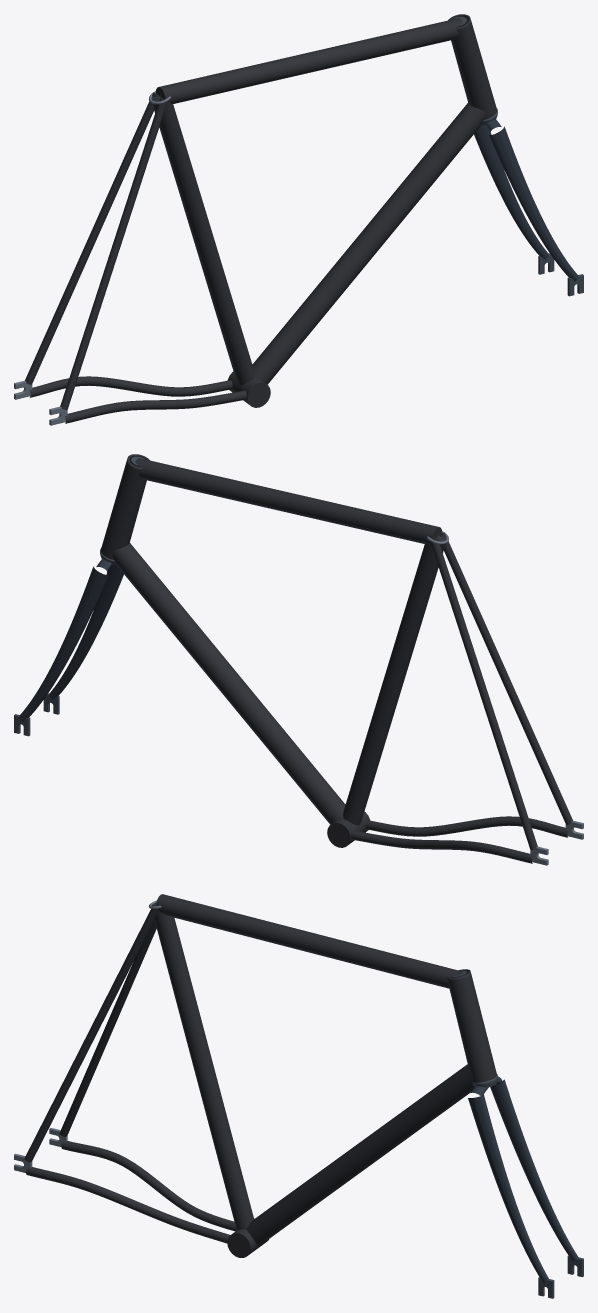
File: state-black-label-v3-61.glb
3 views of the same model, one above another, from view 1: azimuth 30°, elevation 25°; view 2: azimuth 150°, elevation 25°; view 3: azimuth 330°, elevation 25° (orthographic).
Parts seen in each view (by area): view 1: paint_down, paint_top, paint_seat, paint_seatstay_1, paint_seatstay_-1, paint_head, fork_blade_1, paint_chainstay_-1, fork_blade_-1, paint_chainstay_1, paint_bottom_bracket; view 2: paint_down, paint_top, paint_seat, paint_seatstay_-1, paint_seatstay_1, paint_head, fork_blade_-1, paint_chainstay_1, fork_blade_1, paint_chainstay_-1, paint_bottom_bracket; view 3: paint_down, paint_seat, paint_top, paint_head, paint_seatstay_1, fork_blade_1, fork_blade_-1, paint_chainstay_1, paint_seatstay_-1, paint_chainstay_-1, paint_bottom_bracket.
Boxes of the visible parts, <box> form: paint_down: <box>252,103,485,384</box>; paint_top: <box>155,18,462,103</box>; paint_seat: <box>151,95,254,385</box>; paint_seatstay_1: <box>60,98,167,409</box>; paint_seatstay_-1: <box>25,92,157,384</box>; paint_head: <box>448,14,496,119</box>; fork_blade_1: <box>489,126,578,281</box>; paint_chainstay_-1: <box>29,376,232,397</box>; fork_blade_-1: <box>474,125,548,259</box>; paint_chainstay_1: <box>65,390,246,423</box>; paint_bottom_bracket: <box>227,371,270,407</box>; paint_down: <box>112,543,345,824</box>; paint_top: <box>135,458,442,543</box>; paint_seat: <box>343,535,446,825</box>; paint_seatstay_-1: <box>430,538,537,849</box>; paint_seatstay_1: <box>440,532,572,824</box>; paint_head: <box>101,454,149,559</box>; fork_blade_-1: <box>19,566,108,721</box>; paint_chainstay_1: <box>365,816,568,837</box>; fork_blade_1: <box>49,565,123,699</box>; paint_chainstay_-1: <box>351,830,532,863</box>; paint_bottom_bracket: <box>327,811,370,847</box>; paint_down: <box>246,1064,474,1245</box>; paint_seat: <box>152,903,253,1230</box>; paint_top: <box>155,894,462,988</box>; paint_head: <box>447,969,496,1082</box>; paint_seatstay_1: <box>24,904,157,1162</box>; fork_blade_1: <box>468,1094,548,1282</box>; fork_blade_-1: <box>490,1079,578,1261</box>; paint_chainstay_1: <box>26,1167,230,1243</box>; paint_seatstay_-1: <box>59,920,156,1136</box>; paint_chainstay_-1: <box>61,1141,236,1231</box>; paint_bottom_bracket: <box>227,1218,268,1257</box>.
Bounding box in the file's own units: 1.05 × 0.6249 × 0.1394.
